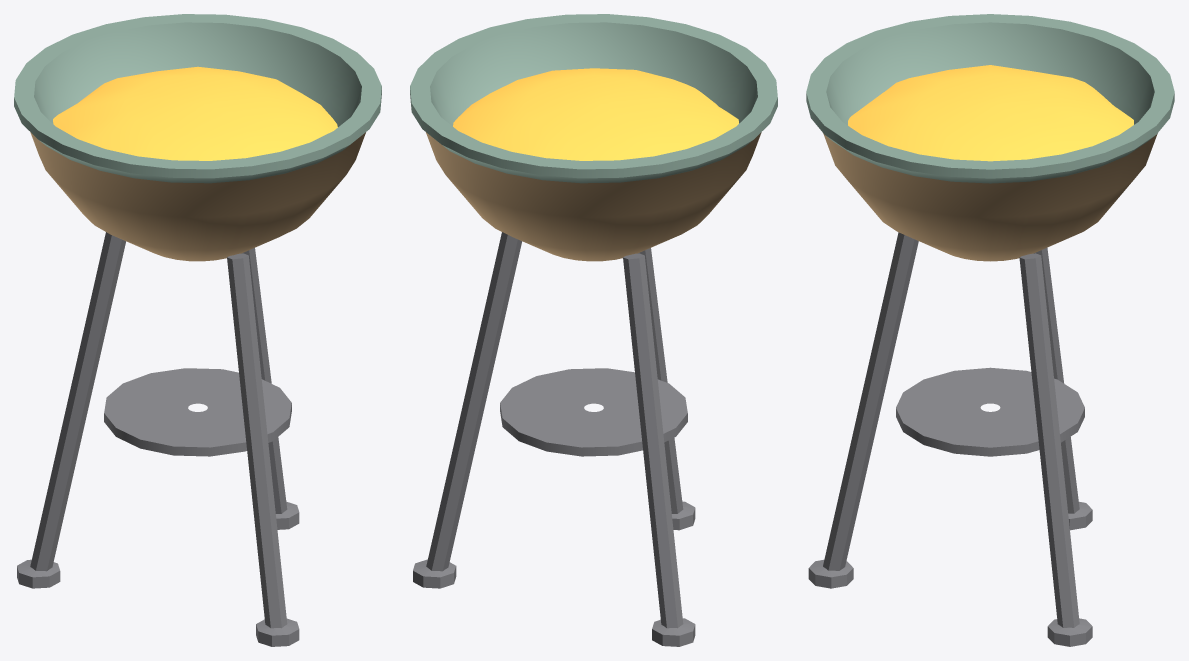
File: brazier.glb
3 views of the same model, side by side, from view 1: azimuth 30°, elevation 25°; view 2: azimuth 150°, elevation 25°; view 3: azimuth 270°, elevation 25° (orthographic).
Parts seen in each view (by area): view 1: OUT; view 2: OUT; view 3: OUT.
Part boxes in pixels (box(x1,y1,x2,y2)): OUT: box(14, 14, 381, 646); OUT: box(410, 14, 777, 646); OUT: box(806, 14, 1174, 646).
Bounding box in the file's own units: 0.74 × 1.08 × 0.74.
